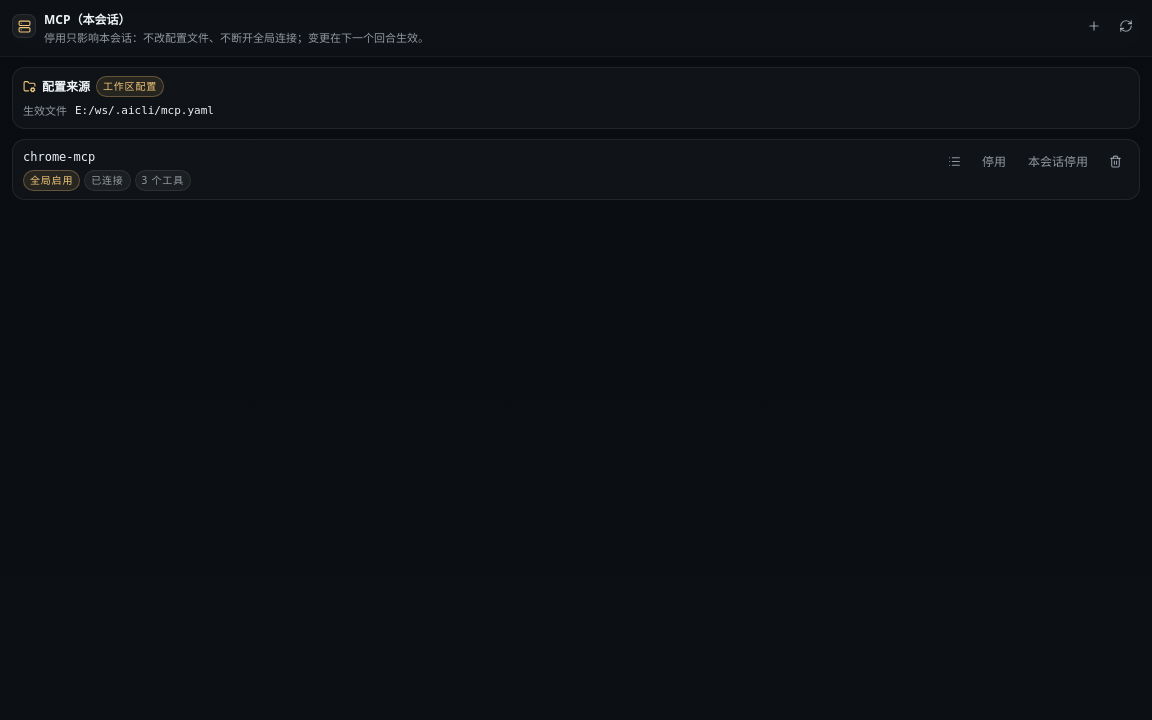
Test: SessionMcpSurface › opens the session tool list dialog from a row
Click the button with test id "session-mcp-tools" at point(955, 162), box left=941, top=148, right=969, bottom=176
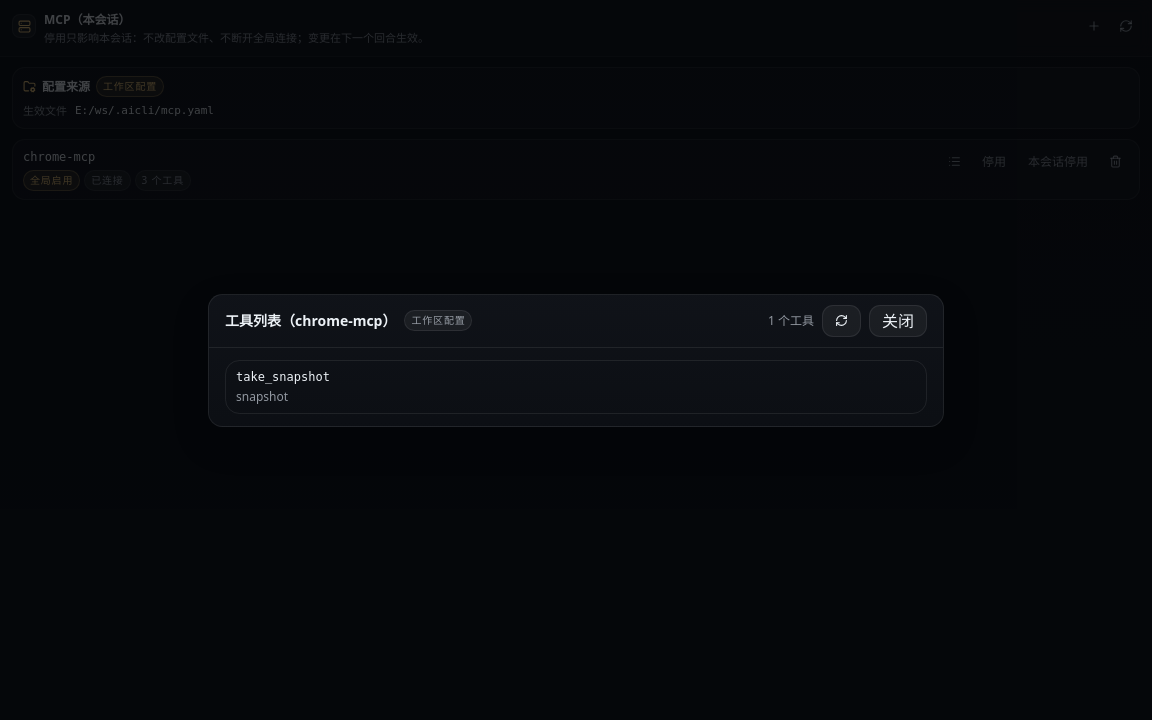
Now the dialog with test id "session-mcp-tools-dialog" is shown, box left=208, top=294, right=944, bottom=426
Now the dialog with test id "session-mcp-tools-dialog" shows "take_snapshot", box left=236, top=370, right=330, bottom=384
